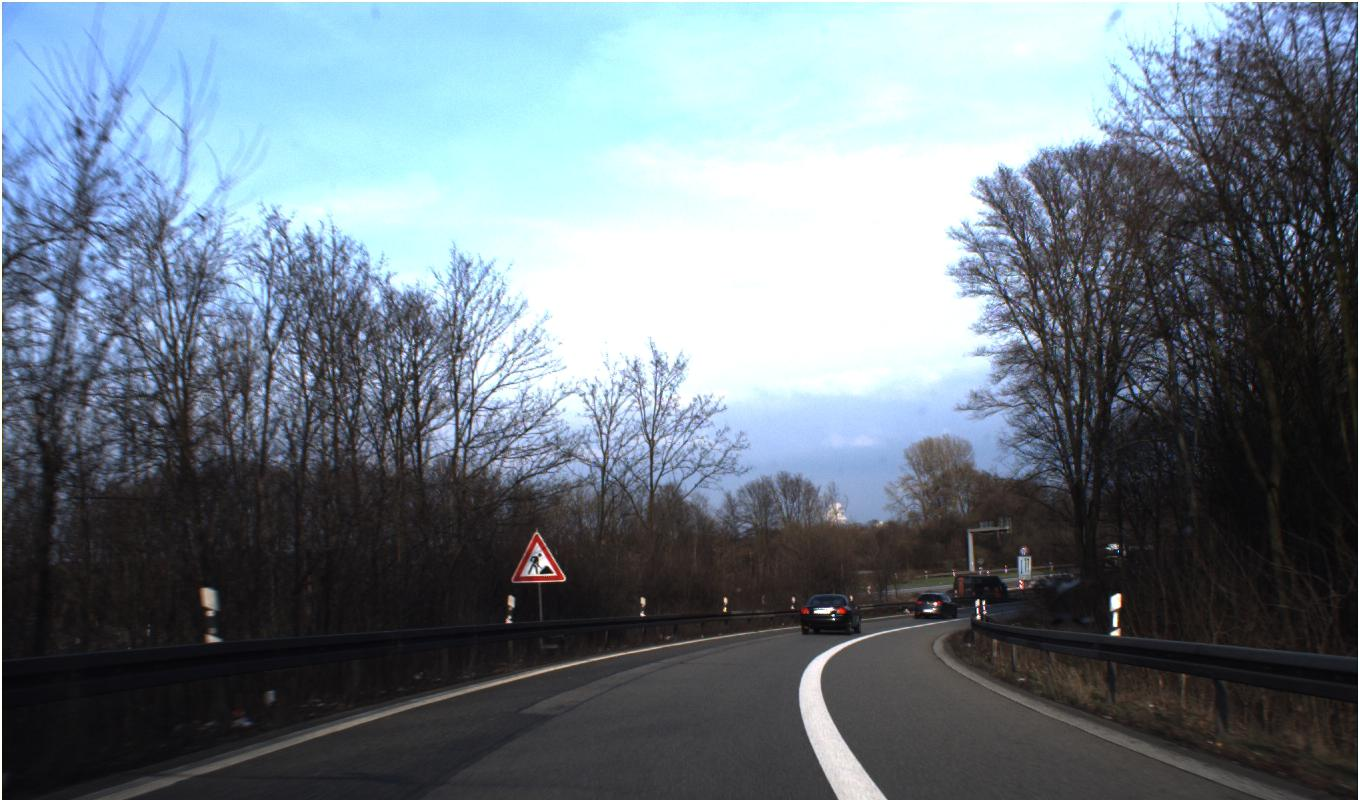danger: (510, 529, 566, 583)
